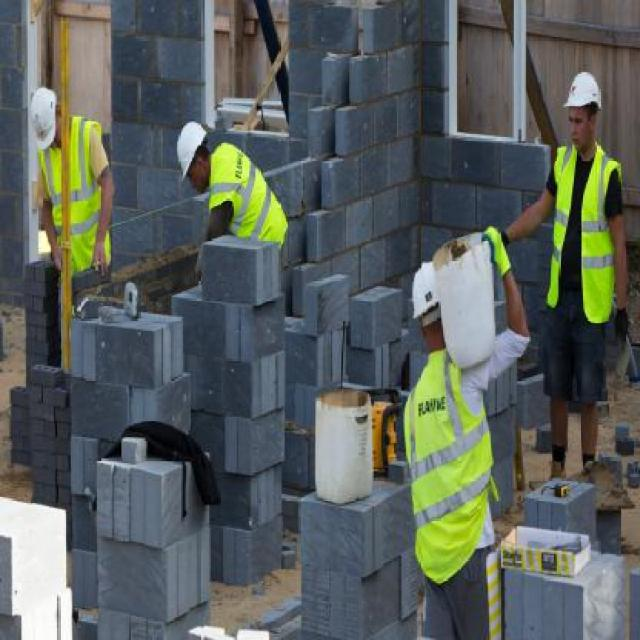Gloves: (479, 226, 514, 281), (614, 307, 630, 346)
Vest: (403, 348, 494, 580), (548, 144, 620, 322), (37, 116, 114, 264), (208, 146, 285, 247)
helmet: (176, 121, 209, 181), (28, 86, 58, 152), (562, 70, 602, 116), (412, 257, 438, 320)
person: (400, 225, 528, 640), (536, 69, 633, 476), (32, 86, 119, 368), (177, 121, 290, 281)
